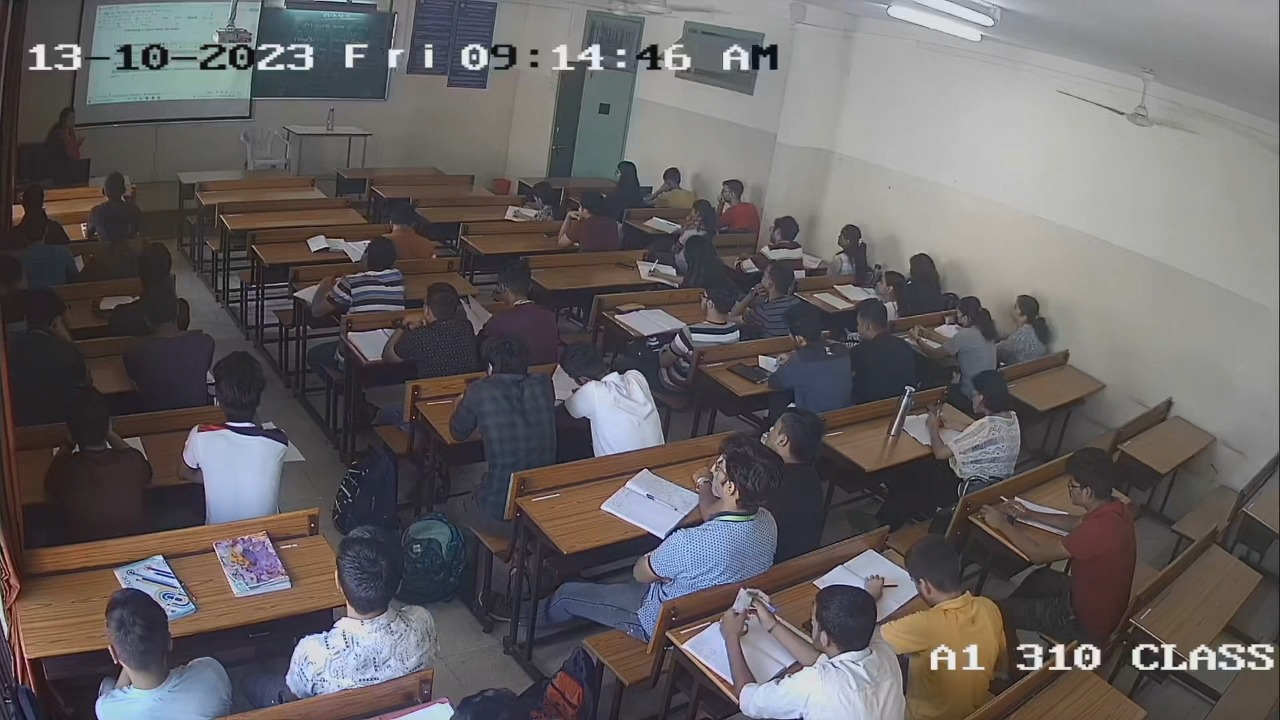cell-phones: (925, 400, 945, 427), (614, 299, 647, 314), (614, 262, 635, 272)
person: (944, 370, 1020, 476), (641, 232, 731, 287), (674, 281, 744, 347)
